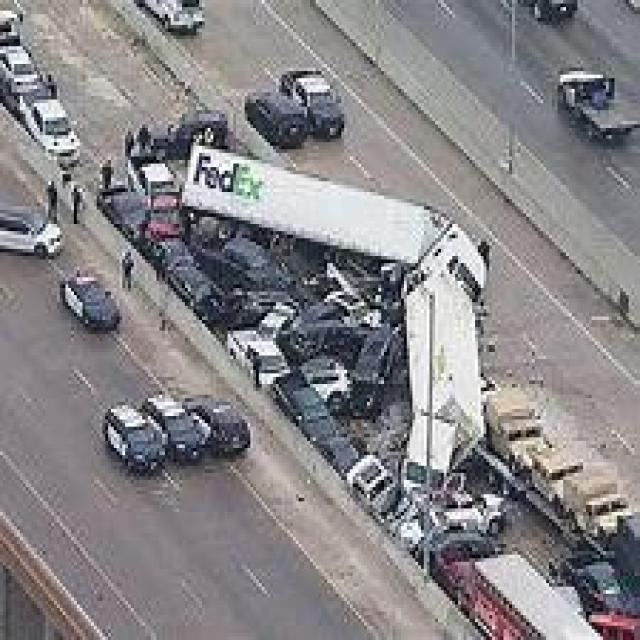Nguy hiểm: (117, 110, 566, 569)
